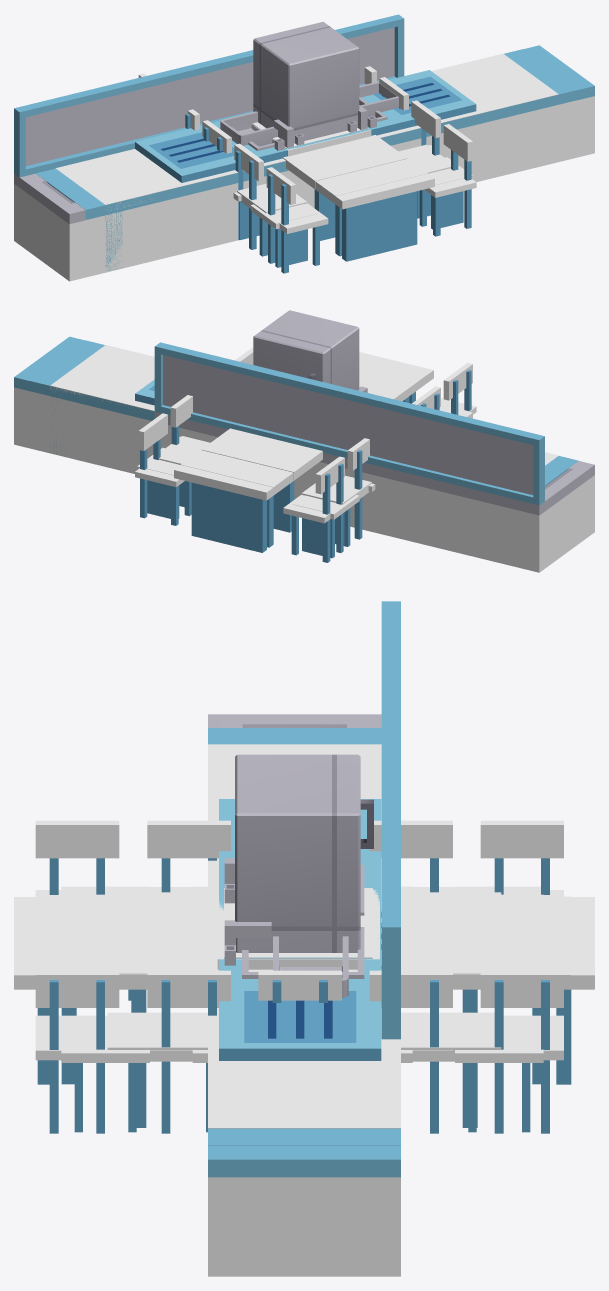
File: Kitchen_Assets.fbx
3 views of the same model, one above another, from view 1: azimuth 30°, elevation 25°; view 2: azimuth 150°, elevation 25°; view 3: azimuth 270°, elevation 25° (orthographic). The views are drawn at different scales.
Parts seen in each view (by area): view 1: Serving_table_03, Serving_table_02, Bench_LVL_03, Serving_table_01, Fridge, Sink, Bench_LVL_02, Bench_LVL_01, Stove; view 2: Serving_table_03, Bench_LVL_03, Bench_LVL_02, Bench_LVL_01, Fridge, Serving_table_01, Serving_table_02, Sink; view 3: Bench_LVL_03, Serving_table_03, Bench_LVL_01, Fridge, Bench_LVL_02, Serving_table_01, Sink, Serving_table_02, Stove, Shelf1.
Part boxes in pixels (bbox=[...]): Serving_table_03: bbox=[14, 14, 594, 281]; Serving_table_02: bbox=[36, 49, 578, 277]; Bench_LVL_03: bbox=[138, 66, 476, 273]; Serving_table_01: bbox=[55, 53, 558, 270]; Fridge: bbox=[253, 21, 359, 143]; Sink: bbox=[135, 70, 476, 182]; Bench_LVL_02: bbox=[233, 145, 472, 267]; Bench_LVL_01: bbox=[237, 135, 450, 240]; Stove: bbox=[251, 124, 371, 156]; Serving_table_03: bbox=[14, 336, 594, 572]; Bench_LVL_03: bbox=[135, 347, 476, 562]; Bench_LVL_02: bbox=[137, 358, 472, 558]; Bench_LVL_01: bbox=[158, 377, 407, 545]; Fridge: bbox=[253, 310, 359, 390]; Serving_table_01: bbox=[50, 345, 558, 465]; Serving_table_02: bbox=[30, 340, 578, 485]; Sink: bbox=[135, 379, 367, 405]; Bench_LVL_03: bbox=[14, 820, 594, 1133]; Serving_table_03: bbox=[208, 601, 400, 1276]; Bench_LVL_01: bbox=[107, 887, 501, 1127]; Fridge: bbox=[235, 754, 373, 952]; Bench_LVL_02: bbox=[38, 886, 570, 1132]; Serving_table_01: bbox=[208, 744, 400, 1128]; Sink: bbox=[219, 799, 381, 1060]; Serving_table_02: bbox=[208, 728, 400, 1145]; Stove: bbox=[217, 888, 381, 969]; Shelf1: bbox=[224, 888, 381, 968].
Bounding box in the file's own units: 601 × 170 × 332.
Materials: 1 (1 with a texture image).
